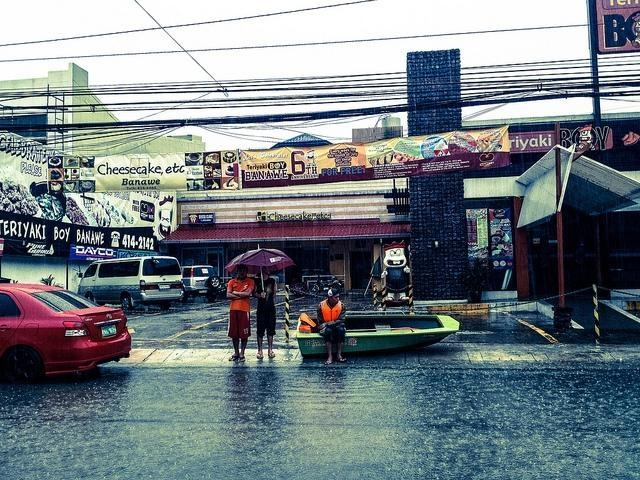car: (1, 284, 131, 385), (180, 266, 220, 301)
truck: (77, 256, 186, 311)
